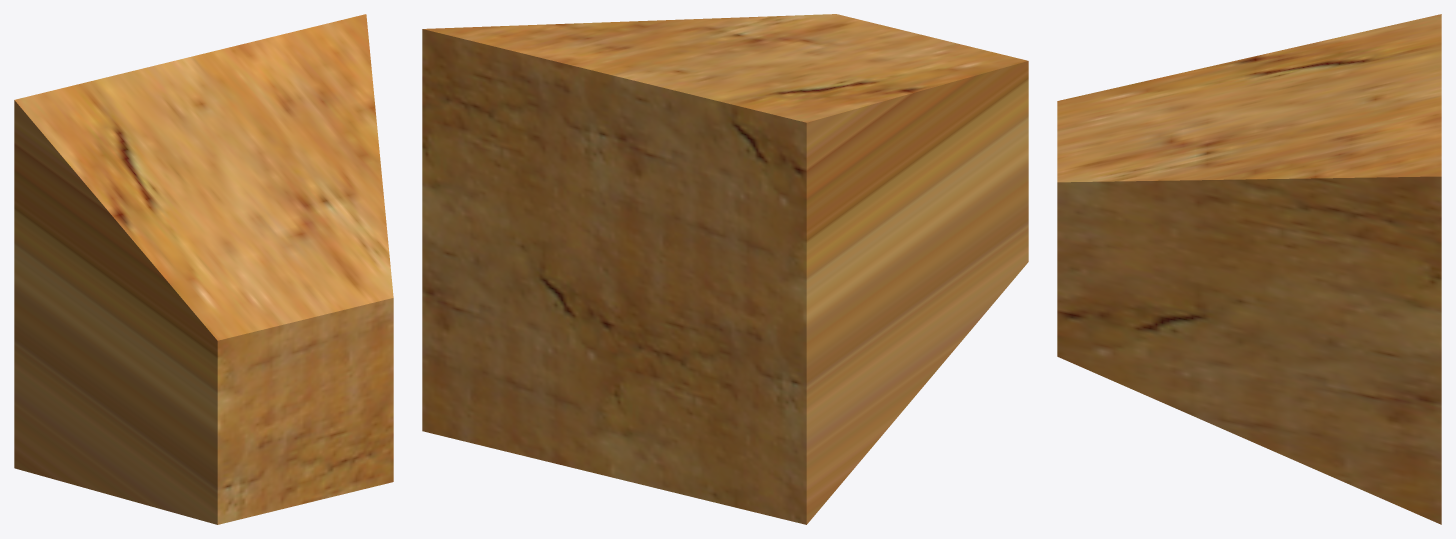
The model's file is blocks-ramp-tri-flat.glb.
3 renders of one model, left to right at view 1: azimuth 30°, elevation 25°; view 2: azimuth 150°, elevation 25°; view 3: azimuth 270°, elevation 25°, orthographic. The views are drawn at different scales.
Visible parts, largest first — view 1: Block-Ramp-Tri-E-1*; view 2: Block-Ramp-Tri-E-1*; view 3: Block-Ramp-Tri-E-1*.
Boxes of the visible parts, box(x1,y1,x2,y2) form: Block-Ramp-Tri-E-1*: box(14, 14, 393, 524); Block-Ramp-Tri-E-1*: box(422, 14, 1028, 524); Block-Ramp-Tri-E-1*: box(1057, 14, 1441, 524).
Bounding box in the file's own units: 2 × 2 × 2.
1 material, 1 textured.
